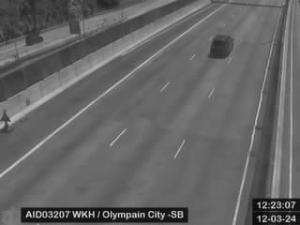vehicle: (210, 33, 236, 59)
